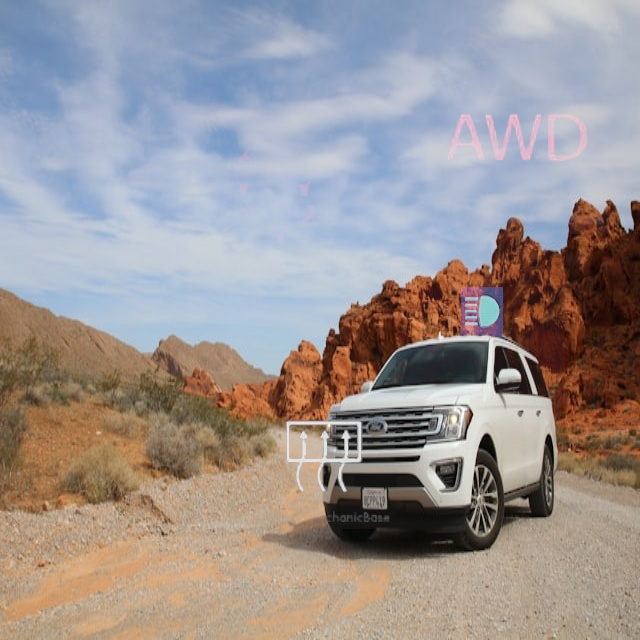symbol: (165, 94, 366, 295), (421, 45, 610, 234), (400, 235, 565, 400), (254, 388, 395, 529)
